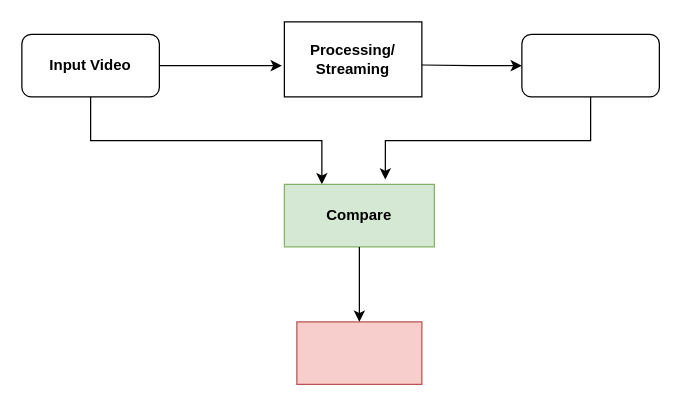
The diagram is 681 pixels wide and 406 high, and some of its shapes have lost their labels. The shapes that lost their labels are listed below. From the top down, each one's centre as x and y in pixels, then its label:
the point at 590,65: Output Video
the point at 359,352: Similarity Score
